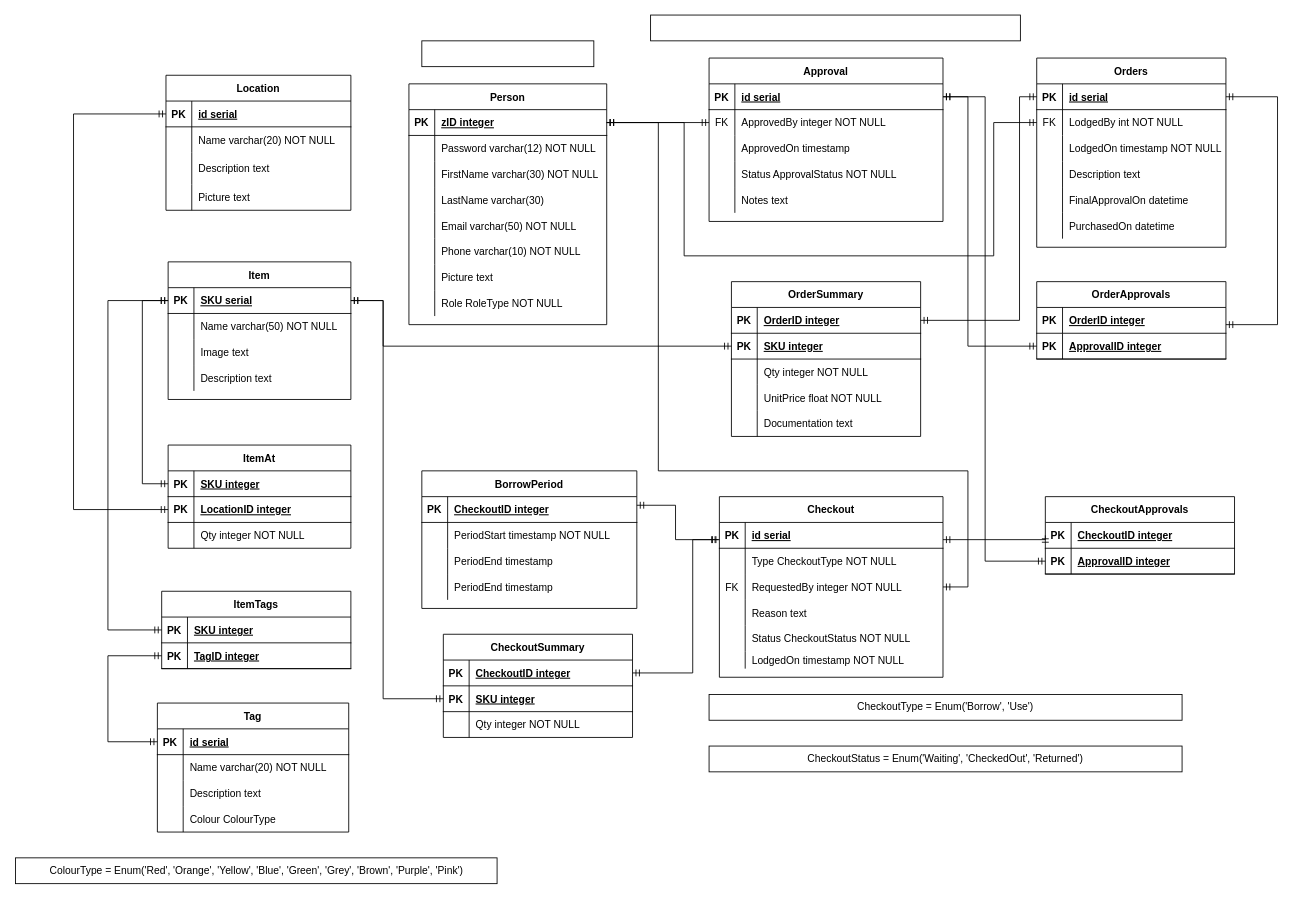
Some shapes in this 1300 by 899 pixel diagram are drawn without their labels. Each missing label, with the centre of its shape:
"ApprovalStatus = Enum('PendingApproval', 'Approved', 'NotApproved')" goes at point 835,27.
"RoleType = Enum('Admin', 'Member')" goes at point 507,53.
